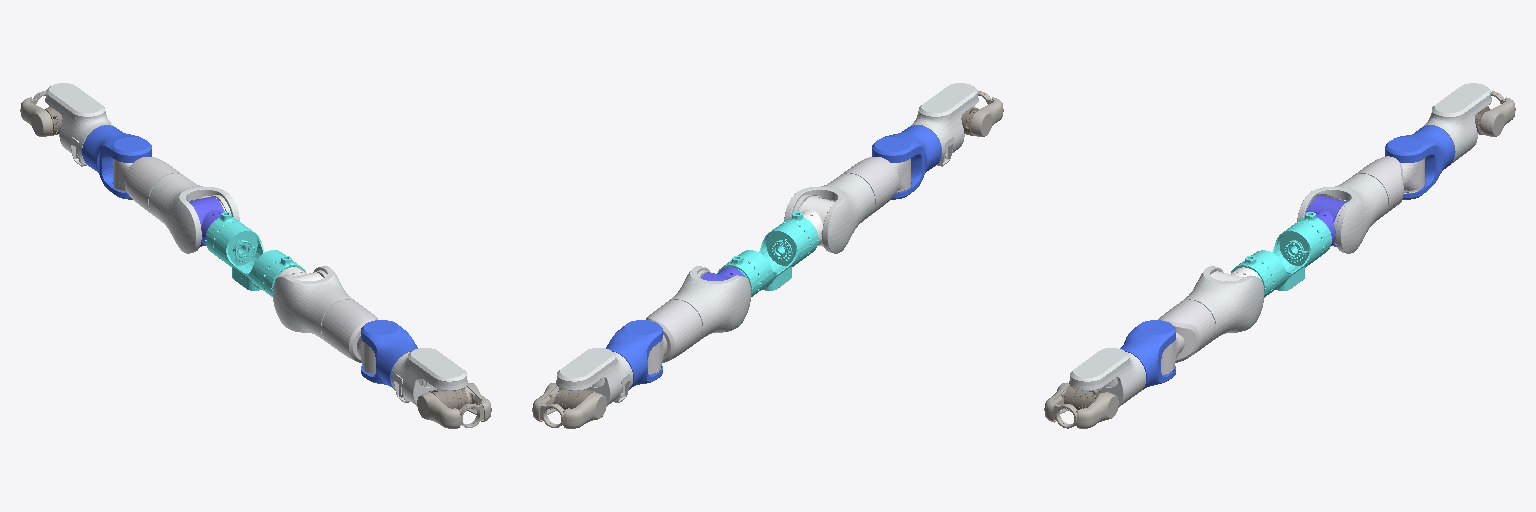
The robot description file, URDF, robot "lanxin-urdf-20260204":
<?xml version="1.0" encoding="utf-8"?>
<!-- This URDF was automatically created by SolidWorks to URDF Exporter! Originally created by Stephen Brawner (brawner@gmail.com) 
     Commit Version:   Build Version: 1.6.9490.28216
     For more information, please see http://wiki.ros.org/sw_urdf_exporter -->
<robot
  name="lanxin-urdf-20260204">
  <link
    name="base_link">
    <inertial>
      <origin
        xyz="-2.63E-06 0 -0.00209577"
        rpy="0 0 0" />
      <mass
        value="2.0208567" />
      <inertia
        ixx="0.016632"
        ixy="-9.4E-07"
        ixz="1.3E-07"
        iyy="0.0016659"
        iyz="6.8E-07"
        izz="0.016566" />
    </inertial>
    <visual>
      <origin
        xyz="0 0 0"
        rpy="0 0 0" />
      <geometry>
        <mesh
          filename="package://lanxin-urdf-20260204/meshes/base_link.STL" />
      </geometry>
      <material
        name="">
        <color
          rgba="0.50196 1 1 1" />
      </material>
    </visual>
    <collision>
      <origin
        xyz="0 0 0"
        rpy="0 0 0" />
      <geometry>
        <mesh
          filename="package://lanxin-urdf-20260204/meshes/base_link.STL" />
      </geometry>
    </collision>
  </link>
  <link
    name="L_SHOULDER_P_S">
    <inertial>
      <origin
        xyz="-0.0055616 0.092768 -3.039E-05"
        rpy="0 0 0" />
      <mass
        value="1.0048016" />
      <inertia
        ixx="0.00095296"
        ixy="3.417E-05"
        ixz="-1.04E-06"
        iyy="0.00077574"
        iyz="-1.5E-07"
        izz="0.00099941" />
    </inertial>
    <visual>
      <origin
        xyz="0 0 0"
        rpy="0 0 0" />
      <geometry>
        <mesh
          filename="package://lanxin-urdf-20260204/meshes/L_SHOULDER_P_S.STL" />
      </geometry>
      <material
        name="">
        <color
          rgba="0.46667 0.46667 1 1" />
      </material>
    </visual>
    <collision>
      <origin
        xyz="0 0 0"
        rpy="0 0 0" />
      <geometry>
        <mesh
          filename="package://lanxin-urdf-20260204/meshes/L_SHOULDER_P_S.STL" />
      </geometry>
    </collision>
  </link>
  <joint
    name="L_SHOULDER_P"
    type="revolute">
    <origin
      xyz="0 0.09225 0"
      rpy="0 0 0" />
    <parent
      link="base_link" />
    <child
      link="L_SHOULDER_P_S" />
    <axis
      xyz="0 1 0" />
    <limit
      lower="-3.14"
      upper="3.14"
      effort="66"
      velocity="4.294" />
  </joint>
  <link
    name="L_SHOULDER_R_S">
    <inertial>
      <origin
        xyz="0.00364516 0.08784173 1.363E-05"
        rpy="0 0 0" />
      <mass
        value="0.88590607" />
      <inertia
        ixx="0.0022909"
        ixy="0.00022267"
        ixz="5E-08"
        iyy="0.00094859"
        iyz="1E-07"
        izz="0.002429" />
    </inertial>
    <visual>
      <origin
        xyz="0 0 0"
        rpy="0 0 0" />
      <geometry>
        <mesh
          filename="package://lanxin-urdf-20260204/meshes/L_SHOULDER_R_S.STL" />
      </geometry>
      <material
        name="">
        <color
          rgba="0.89804 0.91765 0.92941 1" />
      </material>
    </visual>
    <collision>
      <origin
        xyz="0 0 0"
        rpy="0 0 0" />
      <geometry>
        <mesh
          filename="package://lanxin-urdf-20260204/meshes/L_SHOULDER_R_S.STL" />
      </geometry>
    </collision>
  </link>
  <joint
    name="L_SHOULDER_R"
    type="revolute">
    <origin
      xyz="0 0.09875 0"
      rpy="0 0 0" />
    <parent
      link="L_SHOULDER_P_S" />
    <child
      link="L_SHOULDER_R_S" />
    <axis
      xyz="1 0 0" />
    <limit
      lower="-1.57"
      upper="1.57"
      effort="66"
      velocity="4.294" />
  </joint>
  <link
    name="L_SHOULDER_Y_S">
    <inertial>
      <origin
        xyz="-0.00017635 0.11996932 -0.00260946"
        rpy="0 0 0" />
      <mass
        value="0.84472136" />
      <inertia
        ixx="0.0021111"
        ixy="7.03E-06"
        ixz="-2.25E-06"
        iyy="0.00061461"
        iyz="7.089E-05"
        izz="0.0020422" />
    </inertial>
    <visual>
      <origin
        xyz="0 0 0"
        rpy="0 0 0" />
      <geometry>
        <mesh
          filename="package://lanxin-urdf-20260204/meshes/L_SHOULDER_Y_S.STL" />
      </geometry>
      <material
        name="">
        <color
          rgba="0.8902 0.8902 0.91373 1" />
      </material>
    </visual>
    <collision>
      <origin
        xyz="0 0 0"
        rpy="0 0 0" />
      <geometry>
        <mesh
          filename="package://lanxin-urdf-20260204/meshes/L_SHOULDER_Y_S.STL" />
      </geometry>
    </collision>
  </link>
  <joint
    name="L_SHOULDER_Y"
    type="revolute">
    <origin
      xyz="0 0.1216 0"
      rpy="0 0 0" />
    <parent
      link="L_SHOULDER_R_S" />
    <child
      link="L_SHOULDER_Y_S" />
    <axis
      xyz="0 1 0" />
    <limit
      lower="-3.14"
      upper="3.14"
      effort="34"
      velocity="5.131" />
  </joint>
  <link
    name="L_ELBOW_P_S">
    <inertial>
      <origin
        xyz="0.00039282 0.06850127 0.00261232"
        rpy="0 0 0" />
      <mass
        value="0.63568474" />
      <inertia
        ixx="0.00095455"
        ixy="-2.61E-06"
        ixz="-1.54E-06"
        iyy="0.00051537"
        iyz="8.502E-05"
        izz="0.00083227" />
    </inertial>
    <visual>
      <origin
        xyz="0 0 0"
        rpy="0 0 0" />
      <geometry>
        <mesh
          filename="package://lanxin-urdf-20260204/meshes/L_ELBOW_P_S.STL" />
      </geometry>
      <material
        name="">
        <color
          rgba="0.37255 0.52941 1 1" />
      </material>
    </visual>
    <collision>
      <origin
        xyz="0 0 0"
        rpy="0 0 0" />
      <geometry>
        <mesh
          filename="package://lanxin-urdf-20260204/meshes/L_ELBOW_P_S.STL" />
      </geometry>
    </collision>
  </link>
  <joint
    name="L_ELBOW_P"
    type="revolute">
    <origin
      xyz="0 0.148400000000006 0"
      rpy="0 0 0" />
    <parent
      link="L_SHOULDER_Y_S" />
    <child
      link="L_ELBOW_P_S" />
    <axis
      xyz="0 0 1" />
    <limit
      lower="-1.919"
      upper="1.047"
      effort="34"
      velocity="5.131" />
  </joint>
  <link
    name="L_WRIST_R_S">
    <inertial>
      <origin
        xyz="-0.00369972 0.08325037 0.03285807"
        rpy="0 0 0" />
      <mass
        value="1.4168507" />
      <inertia
        ixx="0.0019637"
        ixy="-3.631E-05"
        ixz="3.223E-05"
        iyy="0.0011138"
        iyz="-0.0002774"
        izz="0.0016721" />
    </inertial>
    <visual>
      <origin
        xyz="0 0 0"
        rpy="0 0 0" />
      <geometry>
        <mesh
          filename="package://lanxin-urdf-20260204/meshes/L_WRIST_R_S.STL" />
      </geometry>
      <material
        name="">
        <color
          rgba="0.89804 0.91765 0.92941 1" />
      </material>
    </visual>
    <collision>
      <origin
        xyz="0 0 0"
        rpy="0 0 0" />
      <geometry>
        <mesh
          filename="package://lanxin-urdf-20260204/meshes/L_WRIST_R_S.STL" />
      </geometry>
    </collision>
  </link>
  <joint
    name="L_WRIST_R"
    type="revolute">
    <origin
      xyz="0 0.0840000000000009 0"
      rpy="0 0 0" />
    <parent
      link="L_ELBOW_P_S" />
    <child
      link="L_WRIST_R_S" />
    <axis
      xyz="0 1 0" />
    <limit
      lower="-3.14"
      upper="3.14"
      effort="11"
      velocity="6.178" />
  </joint>
  <link
    name="L_WRIST_P_S">
    <inertial>
      <origin
        xyz="0.01772445 0.00736871 -0.00124289"
        rpy="0 0 0" />
      <mass
        value="0.44265407" />
      <inertia
        ixx="0.000204"
        ixy="-2.378E-05"
        ixz="7.576E-05"
        iyy="0.00028095"
        iyz="3.516E-05"
        izz="0.0001373" />
    </inertial>
    <visual>
      <origin
        xyz="0 0 0"
        rpy="0 0 0" />
      <geometry>
        <mesh
          filename="package://lanxin-urdf-20260204/meshes/L_WRIST_P_S.STL" />
      </geometry>
      <material
        name="">
        <color
          rgba="0.64706 0.61961 0.58824 1" />
      </material>
    </visual>
    <collision>
      <origin
        xyz="0 0 0"
        rpy="0 0 0" />
      <geometry>
        <mesh
          filename="package://lanxin-urdf-20260204/meshes/L_WRIST_P_S.STL" />
      </geometry>
    </collision>
  </link>
  <joint
    name="L_WRIST_P"
    type="revolute">
    <origin
      xyz="0 0.166499999999999 0"
      rpy="0 0 0" />
    <parent
      link="L_WRIST_R_S" />
    <child
      link="L_WRIST_P_S" />
    <axis
      xyz="0 0 1" />
    <limit
      lower="-0.698"
      upper="0.698"
      effort="11"
      velocity="6.178" />
  </joint>
  <link
    name="L_WRIST_Y_S">
    <inertial>
      <origin
        xyz="0.00299754 0.0321465 0"
        rpy="0 0 0" />
      <mass
        value="0.18887912" />
      <inertia
        ixx="0.00021861"
        ixy="2.78E-05"
        ixz="0"
        iyy="0.00029978"
        iyz="0"
        izz="0.00047023" />
    </inertial>
    <visual>
      <origin
        xyz="0 0 0"
        rpy="0 0 0" />
      <geometry>
        <mesh
          filename="package://lanxin-urdf-20260204/meshes/L_WRIST_Y_S.STL" />
      </geometry>
      <material
        name="">
        <color
          rgba="0.77647 0.75686 0.73725 1" />
      </material>
    </visual>
    <collision>
      <origin
        xyz="0 0 0"
        rpy="0 0 0" />
      <geometry>
        <mesh
          filename="package://lanxin-urdf-20260204/meshes/L_WRIST_Y_S.STL" />
      </geometry>
    </collision>
  </link>
  <joint
    name="L_WRIST_Y"
    type="revolute">
    <origin
      xyz="0 0 0"
      rpy="0 0 0" />
    <parent
      link="L_WRIST_P_S" />
    <child
      link="L_WRIST_Y_S" />
    <axis
      xyz="1 0 0" />
    <limit
      lower="-1.57"
      upper="1.3"
      effort="11"
      velocity="6.178" />
  </joint>
  <link
    name="L_LAST_S">
    <inertial>
      <origin
        xyz="0 0 0"
        rpy="0 0 0" />
      <mass
        value="0" />
      <inertia
        ixx="0"
        ixy="0"
        ixz="0"
        iyy="0"
        iyz="0"
        izz="0" />
    </inertial>
    <visual>
      <origin
        xyz="0 0 0"
        rpy="0 0 0" />
      <geometry>
        <mesh
          filename="package://lanxin-urdf-20260204/meshes/L_LAST_S.STL" />
      </geometry>
      <material
        name="">
        <color
          rgba="1 1 1 1" />
      </material>
    </visual>
    <collision>
      <origin
        xyz="0 0 0"
        rpy="0 0 0" />
      <geometry>
        <mesh
          filename="package://lanxin-urdf-20260204/meshes/L_LAST_S.STL" />
      </geometry>
    </collision>
  </link>
  <joint
    name="L_LAST"
    type="fixed">
    <origin
      xyz="0 0.0815000000000002 0"
      rpy="0 0 0" />
    <parent
      link="L_WRIST_Y_S" />
    <child
      link="L_LAST_S" />
    <axis
      xyz="0 0 0" />
  </joint>
  <link
    name="R_SHOULDER_P_S">
    <inertial>
      <origin
        xyz="-0.00556155 -0.09307731 -3.298E-05"
        rpy="0 0 0" />
      <mass
        value="1.0048006" />
      <inertia
        ixx="0.00095658"
        ixy="-4.264E-05"
        ixz="-1.11E-06"
        iyy="0.00077575"
        iyz="-5.7E-07"
        izz="0.001003" />
    </inertial>
    <visual>
      <origin
        xyz="0 0 0"
        rpy="0 0 0" />
      <geometry>
        <mesh
          filename="package://lanxin-urdf-20260204/meshes/R_SHOULDER_P_S.STL" />
      </geometry>
      <material
        name="">
        <color
          rgba="1 1 1 1" />
      </material>
    </visual>
    <collision>
      <origin
        xyz="0 0 0"
        rpy="0 0 0" />
      <geometry>
        <mesh
          filename="package://lanxin-urdf-20260204/meshes/R_SHOULDER_P_S.STL" />
      </geometry>
    </collision>
  </link>
  <joint
    name="R_SHOULDER_P"
    type="revolute">
    <origin
      xyz="0 -0.0922499999999994 0"
      rpy="0 0 0" />
    <parent
      link="base_link" />
    <child
      link="R_SHOULDER_P_S" />
    <axis
      xyz="0 -1 0" />
    <limit
      lower="-3.14"
      upper="3.14"
      effort="66"
      velocity="4.294" />
  </joint>
  <link
    name="R_SHOULDER_R_S">
    <inertial>
      <origin
        xyz="0.00365637 -0.08782222 -1.737E-05"
        rpy="0 0 0" />
      <mass
        value="0.88629517" />
      <inertia
        ixx="0.0022916"
        ixy="-0.00022323"
        ixz="-1.3E-07"
        iyy="0.0009488"
        iyz="1E-07"
        izz="0.00243" />
    </inertial>
    <visual>
      <origin
        xyz="0 0 0"
        rpy="0 0 0" />
      <geometry>
        <mesh
          filename="package://lanxin-urdf-20260204/meshes/R_SHOULDER_R_S.STL" />
      </geometry>
      <material
        name="">
        <color
          rgba="0.89804 0.91765 0.92941 1" />
      </material>
    </visual>
    <collision>
      <origin
        xyz="0 0 0"
        rpy="0 0 0" />
      <geometry>
        <mesh
          filename="package://lanxin-urdf-20260204/meshes/R_SHOULDER_R_S.STL" />
      </geometry>
    </collision>
  </link>
  <joint
    name="R_SHOULDER_R"
    type="revolute">
    <origin
      xyz="0 -0.0987500000000002 0"
      rpy="0 0 0" />
    <parent
      link="R_SHOULDER_P_S" />
    <child
      link="R_SHOULDER_R_S" />
    <axis
      xyz="1 0 0" />
    <limit
      lower="-1.57"
      upper="1.57"
      effort="66"
      velocity="4.294" />
  </joint>
  <link
    name="R_SHOULDER_Y_S">
    <inertial>
      <origin
        xyz="-3.68E-05 -0.12004858 -0.00260996"
        rpy="0 0 0" />
      <mass
        value="0.84468732" />
      <inertia
        ixx="0.0021144"
        ixy="-3.72E-06"
        ixz="6.5E-07"
        iyy="0.00061488"
        iyz="-7.255E-05"
        izz="0.002046" />
    </inertial>
    <visual>
      <origin
        xyz="0 0 0"
        rpy="0 0 0" />
      <geometry>
        <mesh
          filename="package://lanxin-urdf-20260204/meshes/R_SHOULDER_Y_S.STL" />
      </geometry>
      <material
        name="">
        <color
          rgba="0.8902 0.8902 0.91373 1" />
      </material>
    </visual>
    <collision>
      <origin
        xyz="0 0 0"
        rpy="0 0 0" />
      <geometry>
        <mesh
          filename="package://lanxin-urdf-20260204/meshes/R_SHOULDER_Y_S.STL" />
      </geometry>
    </collision>
  </link>
  <joint
    name="R_SHOULDER_Y"
    type="revolute">
    <origin
      xyz="0 -0.1216 0"
      rpy="0 0 0" />
    <parent
      link="R_SHOULDER_R_S" />
    <child
      link="R_SHOULDER_Y_S" />
    <axis
      xyz="0 -1 0" />
    <limit
      lower="-3.14"
      upper="3.14"
      effort="34"
      velocity="5.131" />
  </joint>
  <link
    name="R_ELBOW_P_S">
    <inertial>
      <origin
        xyz="0.00039222 -0.06852601 0.00259435"
        rpy="0 0 0" />
      <mass
        value="0.63528252" />
      <inertia
        ixx="0.00095363"
        ixy="2.63E-06"
        ixz="-1.57E-06"
        iyy="0.00051505"
        iyz="-8.458E-05"
        izz="0.00083163" />
    </inertial>
    <visual>
      <origin
        xyz="0 0 0"
        rpy="0 0 0" />
      <geometry>
        <mesh
          filename="package://lanxin-urdf-20260204/meshes/R_ELBOW_P_S.STL" />
      </geometry>
      <material
        name="">
        <color
          rgba="0.37255 0.52941 1 1" />
      </material>
    </visual>
    <collision>
      <origin
        xyz="0 0 0"
        rpy="0 0 0" />
      <geometry>
        <mesh
          filename="package://lanxin-urdf-20260204/meshes/R_ELBOW_P_S.STL" />
      </geometry>
    </collision>
  </link>
  <joint
    name="R_ELBOW_P"
    type="revolute">
    <origin
      xyz="0 -0.148400000000003 0"
      rpy="0 0 0" />
    <parent
      link="R_SHOULDER_Y_S" />
    <child
      link="R_ELBOW_P_S" />
    <axis
      xyz="0 0 1" />
    <limit
      lower="-1.047"
      upper="1.919"
      effort="34"
      velocity="5.131" />
  </joint>
  <link
    name="R_WRIST_R_S">
    <inertial>
      <origin
        xyz="-0.00014106 -0.07968768 0.03279023"
        rpy="0 0 0" />
      <mass
        value="1.4168568" />
      <inertia
        ixx="0.0020843"
        ixy="5.63E-06"
        ixz="-1.724E-05"
        iyy="0.0010512"
        iyz="0.00022396"
        izz="0.0017366" />
    </inertial>
    <visual>
      <origin
        xyz="0 0 0"
        rpy="0 0 0" />
      <geometry>
        <mesh
          filename="package://lanxin-urdf-20260204/meshes/R_WRIST_R_S.STL" />
      </geometry>
      <material
        name="">
        <color
          rgba="0.89804 0.91765 0.92941 1" />
      </material>
    </visual>
    <collision>
      <origin
        xyz="0 0 0"
        rpy="0 0 0" />
      <geometry>
        <mesh
          filename="package://lanxin-urdf-20260204/meshes/R_WRIST_R_S.STL" />
      </geometry>
    </collision>
  </link>
  <joint
    name="R_WRIST_R"
    type="revolute">
    <origin
      xyz="0 -0.0839999999999956 0"
      rpy="0 0 0" />
    <parent
      link="R_ELBOW_P_S" />
    <child
      link="R_WRIST_R_S" />
    <axis
      xyz="0 -1 0" />
    <limit
      lower="-3.14"
      upper="3.14"
      effort="11"
      velocity="6.178" />
  </joint>
  <link
    name="R_WRIST_P_S">
    <inertial>
      <origin
        xyz="0.01772445 -0.010905 0.00818421"
        rpy="0 0 0" />
      <mass
        value="0.44265407" />
      <inertia
        ixx="0.00014642"
        ixy="3.683E-05"
        ixz="4.164E-05"
        iyy="0.00020883"
        iyz="-2.971E-05"
        izz="0.00015186" />
    </inertial>
    <visual>
      <origin
        xyz="0 0 0"
        rpy="0 0 0" />
      <geometry>
        <mesh
          filename="package://lanxin-urdf-20260204/meshes/R_WRIST_P_S.STL" />
      </geometry>
      <material
        name="">
        <color
          rgba="0.64706 0.61961 0.58824 1" />
      </material>
    </visual>
    <collision>
      <origin
        xyz="0 0 0"
        rpy="0 0 0" />
      <geometry>
        <mesh
          filename="package://lanxin-urdf-20260204/meshes/R_WRIST_P_S.STL" />
      </geometry>
    </collision>
  </link>
  <joint
    name="R_WRIST_P"
    type="revolute">
    <origin
      xyz="0 -0.1665 0"
      rpy="0 0 0" />
    <parent
      link="R_WRIST_R_S" />
    <child
      link="R_WRIST_P_S" />
    <axis
      xyz="0 0 1" />
    <limit
      lower="-0.698"
      upper="0.698"
      effort="11"
      velocity="6.178" />
  </joint>
  <link
    name="R_WRIST_Y_S">
    <inertial>
      <origin
        xyz="0.00299762 -0.03214653 0"
        rpy="0 0 0" />
      <mass
        value="0.18887729" />
      <inertia
        ixx="0.0002186"
        ixy="-2.781E-05"
        ixz="0"
        iyy="0.00029978"
        iyz="0"
        izz="0.00047022" />
    </inertial>
    <visual>
      <origin
        xyz="0 0 0"
        rpy="0 0 0" />
      <geometry>
        <mesh
          filename="package://lanxin-urdf-20260204/meshes/R_WRIST_Y_S.STL" />
      </geometry>
      <material
        name="">
        <color
          rgba="0.77647 0.75686 0.73725 1" />
      </material>
    </visual>
    <collision>
      <origin
        xyz="0 0 0"
        rpy="0 0 0" />
      <geometry>
        <mesh
          filename="package://lanxin-urdf-20260204/meshes/R_WRIST_Y_S.STL" />
      </geometry>
    </collision>
  </link>
  <joint
    name="R_WRIST_Y"
    type="revolute">
    <origin
      xyz="0 0 0"
      rpy="0 0 0" />
    <parent
      link="R_WRIST_P_S" />
    <child
      link="R_WRIST_Y_S" />
    <axis
      xyz="1 0 0" />
    <limit
      lower="-1.3"
      upper="1.57"
      effort="11"
      velocity="6.178" />
  </joint>
  <link
    name="R_LAST_S">
    <inertial>
      <origin
        xyz="0 0 0"
        rpy="0 0 0" />
      <mass
        value="0" />
      <inertia
        ixx="0"
        ixy="0"
        ixz="0"
        iyy="0"
        iyz="0"
        izz="0" />
    </inertial>
    <visual>
      <origin
        xyz="0 0 0"
        rpy="0 0 0" />
      <geometry>
        <mesh
          filename="package://lanxin-urdf-20260204/meshes/R_LAST_S.STL" />
      </geometry>
      <material
        name="">
        <color
          rgba="1 1 1 1" />
      </material>
    </visual>
    <collision>
      <origin
        xyz="0 0 0"
        rpy="0 0 0" />
      <geometry>
        <mesh
          filename="package://lanxin-urdf-20260204/meshes/R_LAST_S.STL" />
      </geometry>
    </collision>
  </link>
  <joint
    name="R_LAST"
    type="fixed">
    <origin
      xyz="0 -0.081500000000001 0"
      rpy="0 0 0" />
    <parent
      link="R_WRIST_Y_S" />
    <child
      link="R_LAST_S" />
    <axis
      xyz="0 0 0" />
  </joint>
</robot>

--- Render facts (derived) ---
Views: 3 orthographic renders of the robot side by side, from view 1: azimuth 30°, elevation 25°; view 2: azimuth 150°, elevation 25°; view 3: azimuth 330°, elevation 25°.
Robot: lanxin-urdf-20260204 — 17 links, 16 joints (14 revolute, 2 fixed); root link base_link; default pose: all joints at 0.
Visible links, largest first — view 1: base_link, L_SHOULDER_R_S, R_SHOULDER_R_S, R_WRIST_R_S, L_WRIST_R_S, L_ELBOW_P_S, R_SHOULDER_Y_S, R_ELBOW_P_S, L_SHOULDER_Y_S, R_WRIST_Y_S, L_WRIST_Y_S, L_SHOULDER_P_S; view 2: base_link, R_SHOULDER_R_S, L_SHOULDER_R_S, L_WRIST_R_S, R_WRIST_R_S, R_ELBOW_P_S, L_SHOULDER_Y_S, L_ELBOW_P_S, R_SHOULDER_Y_S, L_WRIST_Y_S, R_WRIST_Y_S, R_SHOULDER_P_S; view 3: base_link, L_SHOULDER_R_S, R_SHOULDER_R_S, R_WRIST_R_S, L_WRIST_R_S, L_ELBOW_P_S, R_SHOULDER_Y_S, R_ELBOW_P_S, L_SHOULDER_Y_S, R_WRIST_Y_S, L_WRIST_Y_S, L_SHOULDER_P_S (+1 smaller).
Boxes of the visible links, x1=… form: base_link: x1=205, y1=212, x2=305, y2=296; L_SHOULDER_R_S: x1=149, y1=173, x2=239, y2=253; R_SHOULDER_R_S: x1=273, y1=266, x2=354, y2=341; R_WRIST_R_S: x1=391, y1=348, x2=467, y2=405; L_WRIST_R_S: x1=45, y1=83, x2=112, y2=166; L_ELBOW_P_S: x1=82, y1=125, x2=151, y2=199; R_SHOULDER_Y_S: x1=321, y1=300, x2=377, y2=374; R_ELBOW_P_S: x1=361, y1=320, x2=417, y2=389; L_SHOULDER_Y_S: x1=113, y1=157, x2=182, y2=215; R_WRIST_Y_S: x1=417, y1=383, x2=491, y2=428; L_WRIST_Y_S: x1=20, y1=91, x2=52, y2=136; L_SHOULDER_P_S: x1=189, y1=196, x2=224, y2=246; base_link: x1=718, y1=212, x2=818, y2=296; R_SHOULDER_R_S: x1=784, y1=173, x2=874, y2=253; L_SHOULDER_R_S: x1=669, y1=266, x2=750, y2=341; L_WRIST_R_S: x1=556, y1=348, x2=632, y2=405; R_WRIST_R_S: x1=911, y1=83, x2=978, y2=166; R_ELBOW_P_S: x1=872, y1=125, x2=941, y2=199; L_SHOULDER_Y_S: x1=646, y1=300, x2=702, y2=374; L_ELBOW_P_S: x1=606, y1=320, x2=662, y2=389; R_SHOULDER_Y_S: x1=841, y1=157, x2=910, y2=215; L_WRIST_Y_S: x1=532, y1=383, x2=606, y2=428; R_WRIST_Y_S: x1=971, y1=91, x2=1003, y2=136; R_SHOULDER_P_S: x1=799, y1=196, x2=834, y2=246; base_link: x1=1231, y1=212, x2=1331, y2=297; L_SHOULDER_R_S: x1=1297, y1=174, x2=1387, y2=253; R_SHOULDER_R_S: x1=1181, y1=266, x2=1263, y2=342; R_WRIST_R_S: x1=1069, y1=348, x2=1145, y2=407; L_WRIST_R_S: x1=1423, y1=83, x2=1491, y2=163; L_ELBOW_P_S: x1=1385, y1=125, x2=1454, y2=199; R_SHOULDER_Y_S: x1=1158, y1=300, x2=1215, y2=374; R_ELBOW_P_S: x1=1120, y1=320, x2=1175, y2=389; L_SHOULDER_Y_S: x1=1353, y1=156, x2=1424, y2=214; R_WRIST_Y_S: x1=1044, y1=383, x2=1118, y2=428; L_WRIST_Y_S: x1=1480, y1=91, x2=1515, y2=136; L_SHOULDER_P_S: x1=1305, y1=195, x2=1346, y2=246.
Bounding box of the posed robot: 0.1141 × 1.59 × 0.1099 m (x, y, z).
Meshes: 17 distinct files referenced, 15 mesh visuals loaded (15 binary STL); not drawn: 2 (reference not matched to a file when rendering).
